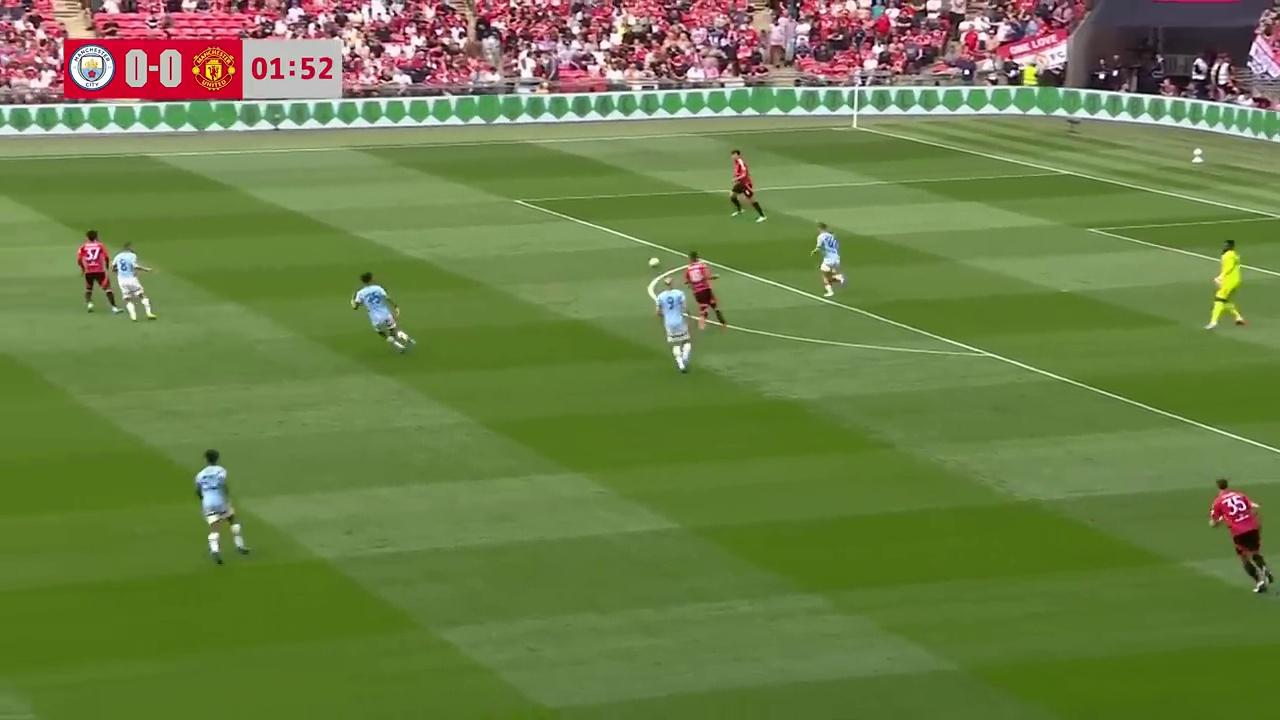ball: (646, 254, 660, 268)
player: (1208, 478, 1277, 595), (193, 449, 251, 565), (348, 270, 413, 352), (649, 276, 693, 373), (1205, 238, 1248, 330), (110, 240, 156, 322), (681, 251, 727, 331), (76, 228, 114, 313), (810, 222, 846, 300), (730, 153, 766, 221)
